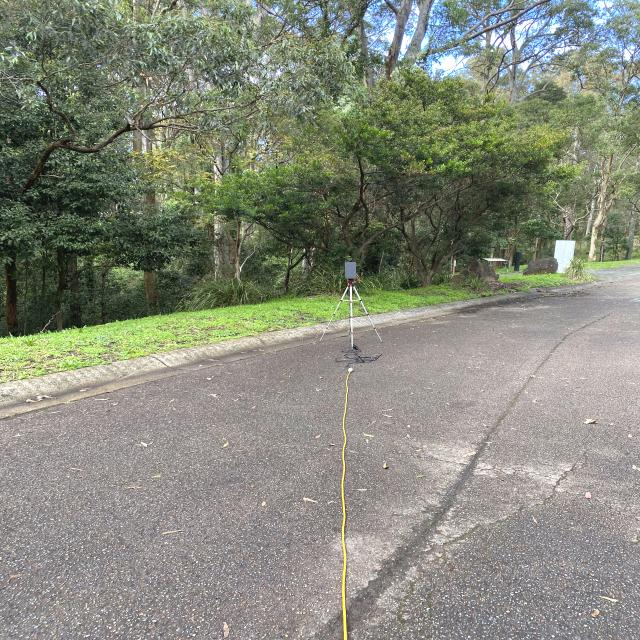matrix: (343, 261, 359, 280)
